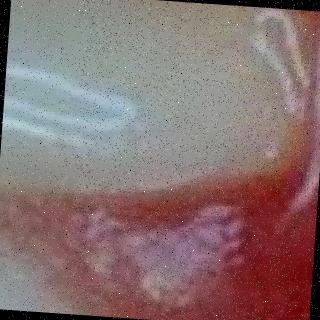Gum Swelling: (28, 172, 320, 320)
